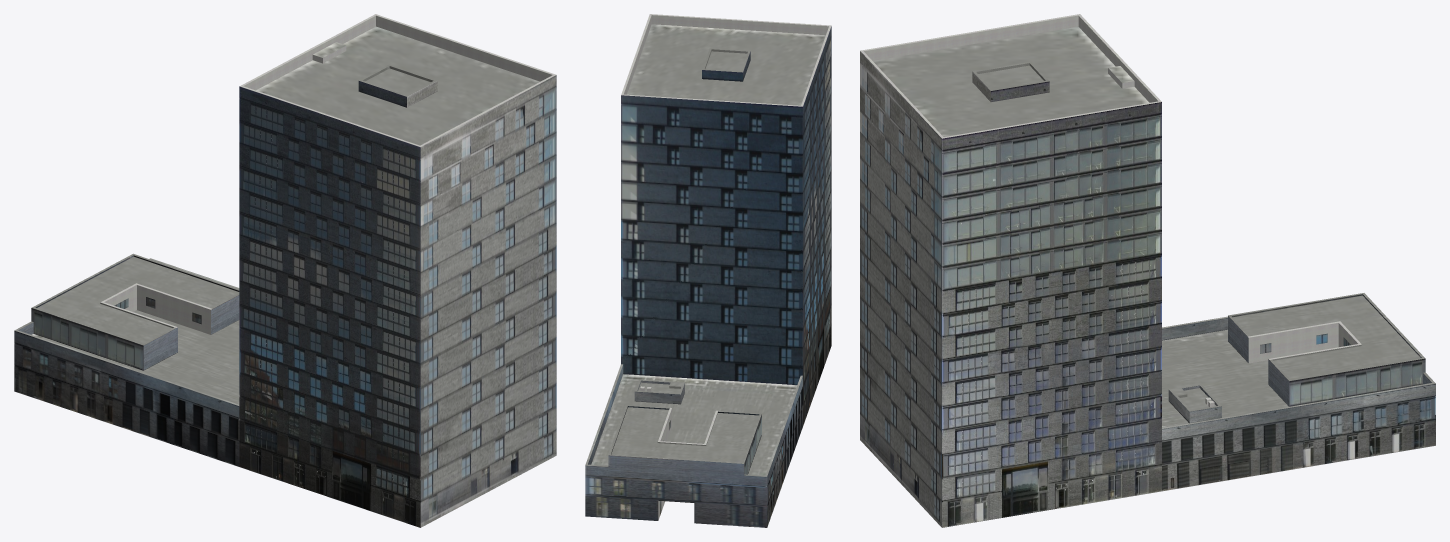
Rendered from Appartment_1.dae.
3 renders of one model, left to right at view 1: azimuth 30°, elevation 25°; view 2: azimuth 150°, elevation 25°; view 3: azimuth 270°, elevation 25°, orthographic. The views are drawn at different scales.
Visible parts, largest first — view 1: skp3877 (×14); view 2: skp3877 (×19); view 3: skp3877 (×14).
Part boxes in pixels (<box>): skp3877 (×14): <box>14,14,556,527</box>; skp3877 (×19): <box>585,14,831,527</box>; skp3877 (×14): <box>860,14,1435,527</box>.
Bounding box in the file's own units: 1572 × 2249 × 1677.
19 materials, 19 textured.
